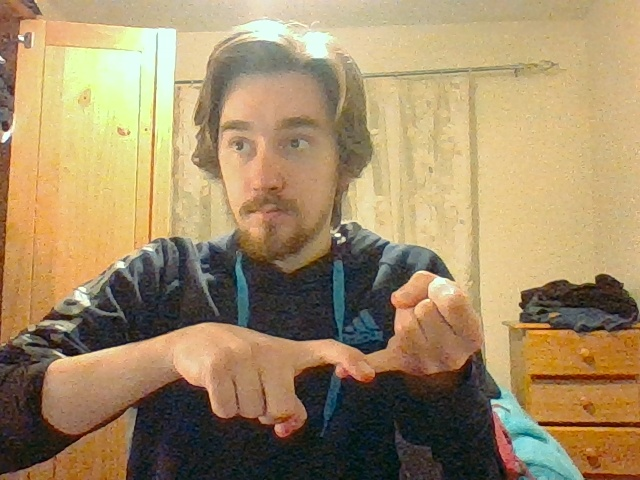step: (218, 270, 484, 438)
